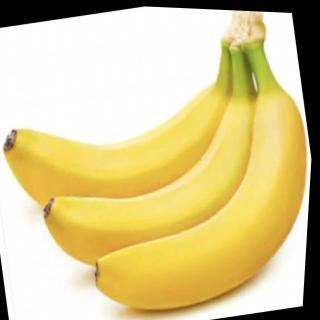banana: (64, 76, 317, 320), (25, 80, 303, 292), (0, 71, 266, 245)
